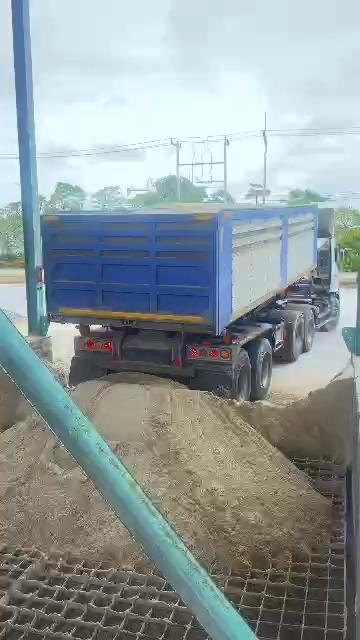sand: (72, 374, 329, 568), (1, 415, 143, 563), (233, 369, 354, 465), (0, 368, 31, 431), (150, 202, 234, 214), (46, 360, 65, 386)
